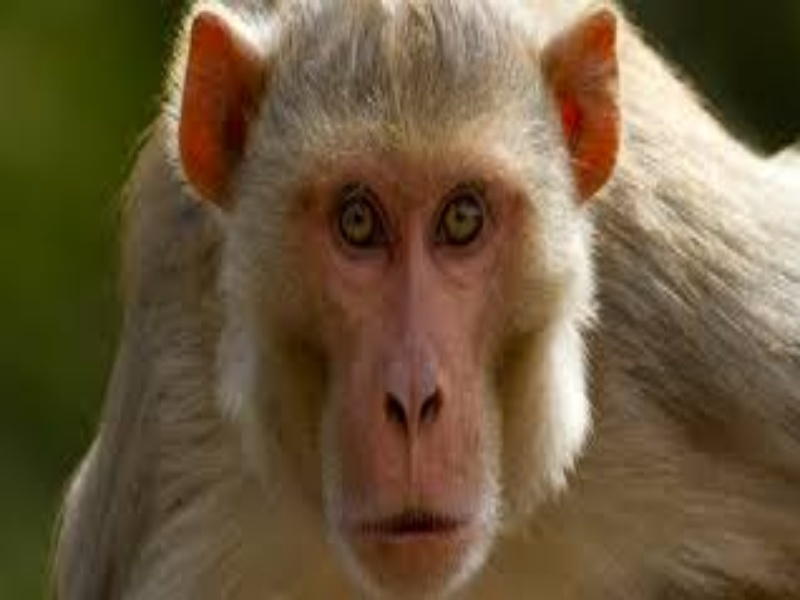monkey: (69, 2, 793, 597)
